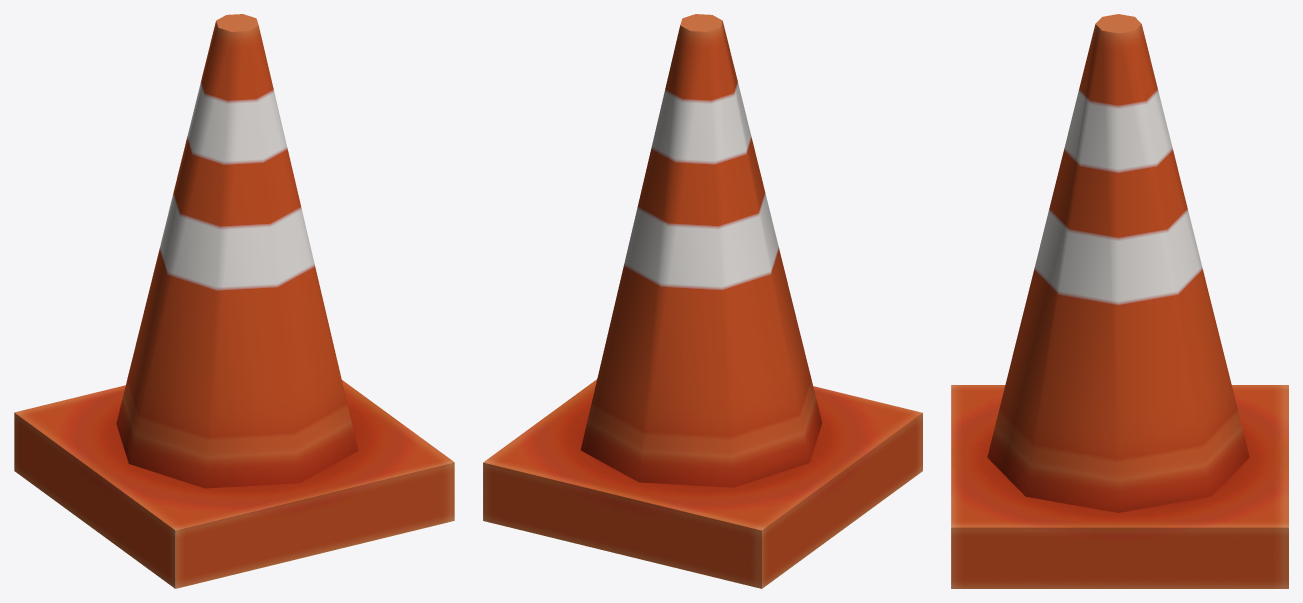
The picture shows the model from 3 angles, left to right: view 1: azimuth 30°, elevation 25°; view 2: azimuth 150°, elevation 25°; view 3: azimuth 270°, elevation 25°; orthographic projection. The views are drawn at different scales.
Parts seen in each view (by area): view 1: Cone; view 2: Cone; view 3: Cone.
Boxes of the visible parts, x1,y1,x2,y2 form: Cone: (14,14,454,588); Cone: (483,14,922,588); Cone: (951,14,1288,588).
Size of the model in its own units: 50 by 80.87 by 50.
